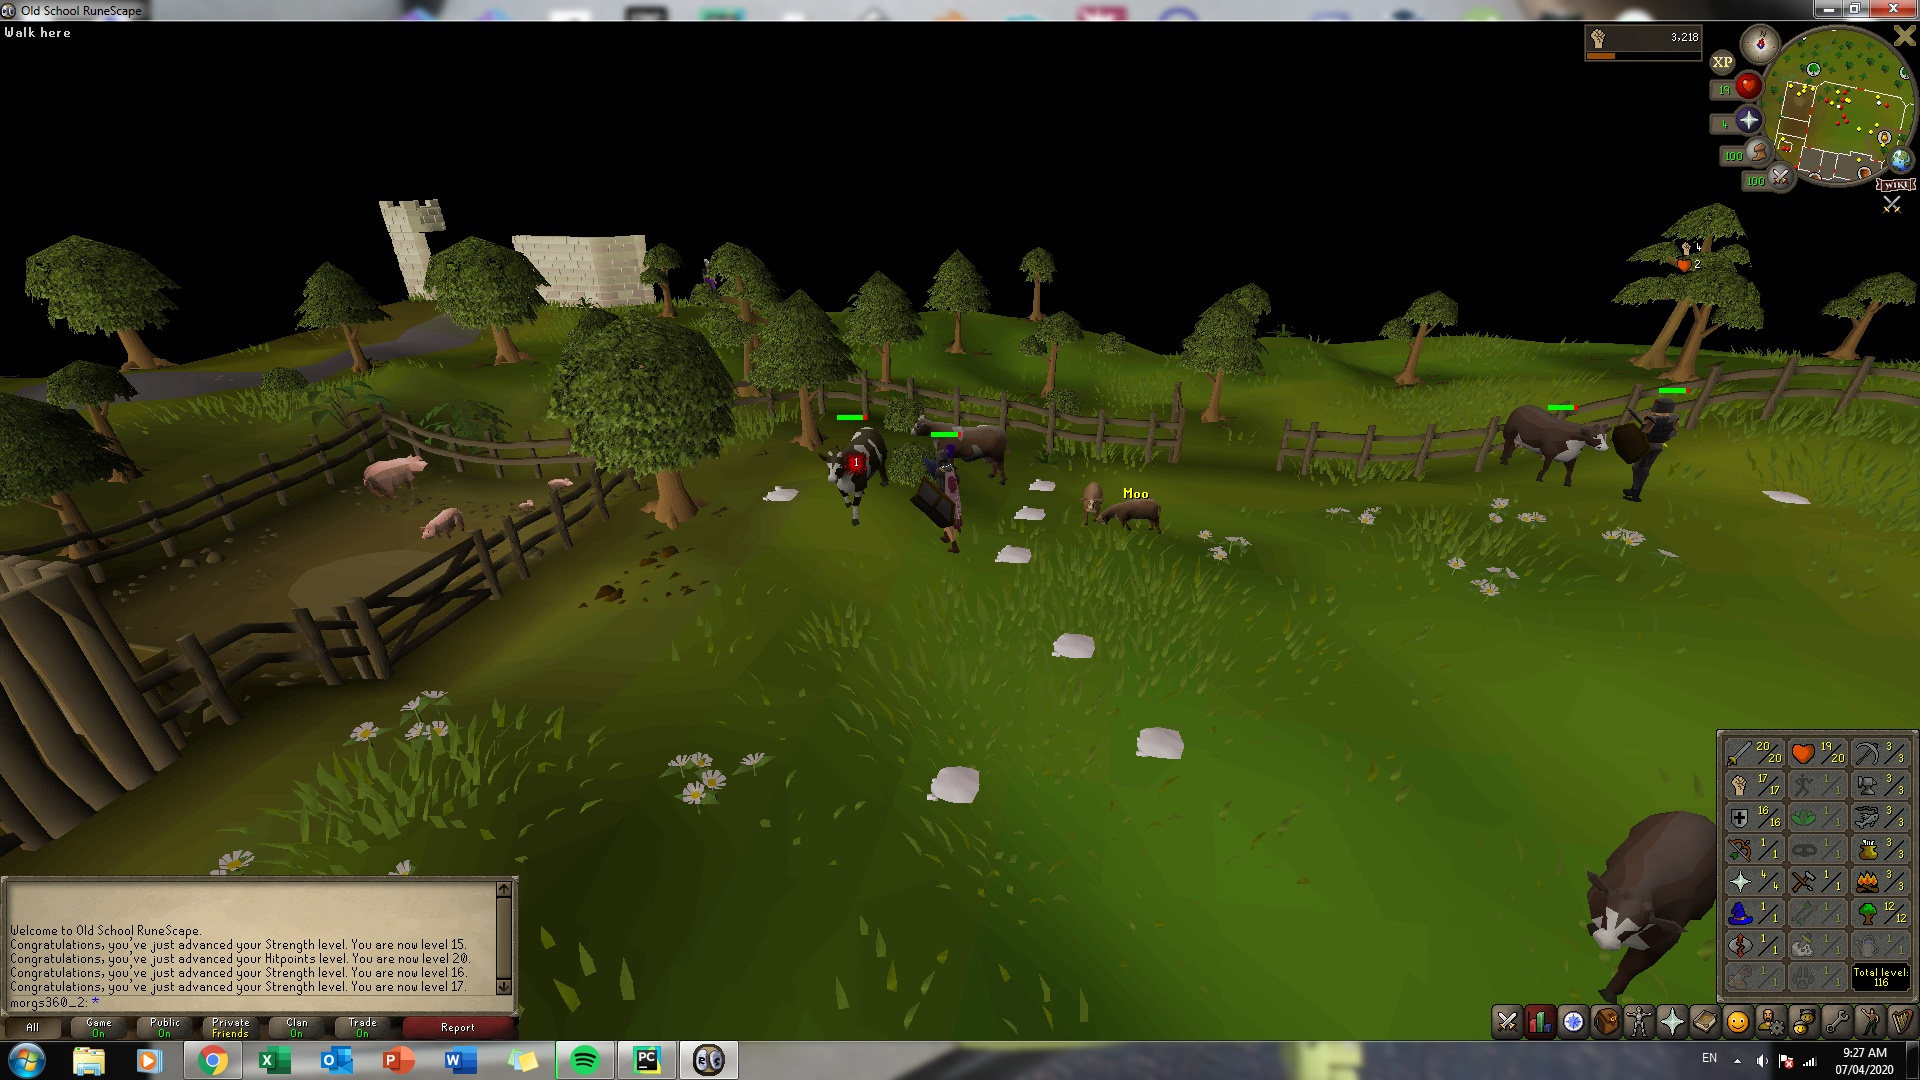cow: (1579, 798, 1716, 999), (1503, 404, 1609, 485), (819, 426, 890, 525), (954, 415, 1010, 480), (1100, 497, 1167, 537), (1079, 478, 1110, 529)
player: (930, 447, 968, 554)
